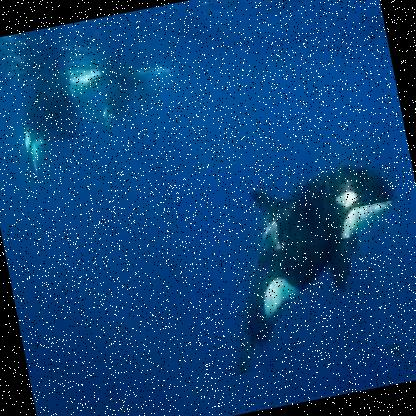killer_whale: (166, 134, 415, 382)
